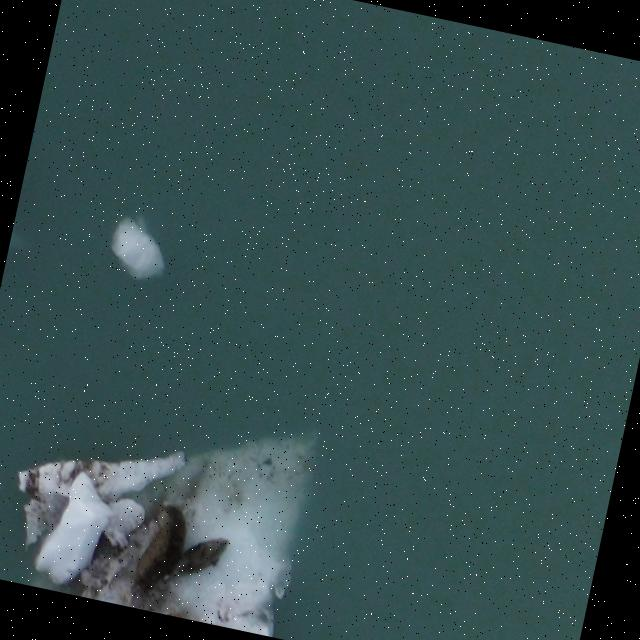seal: (124, 493, 197, 616), (159, 521, 235, 597)
